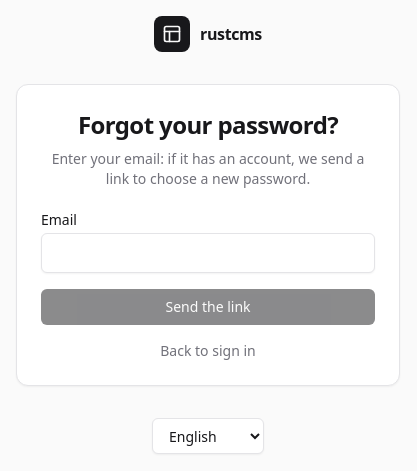
it: asks for a reset link and answers the same whoever asks
Type "ghost@example.test" into the field labelled "Email" at (208, 253), box [41, 233, 375, 273]
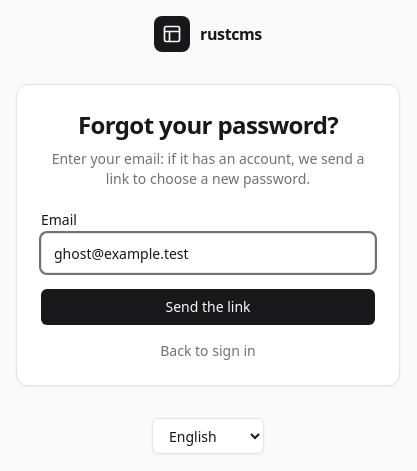
Click the button "Send the link" at (208, 307), box [41, 289, 375, 325]
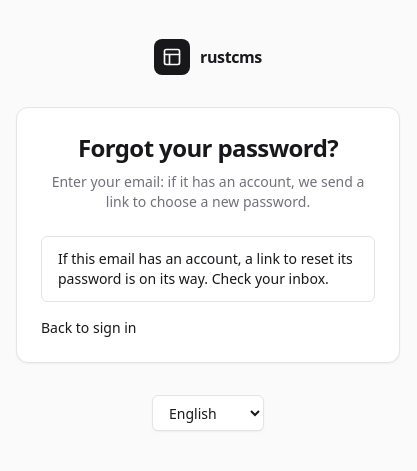
expect the text "If this email has an account" is shown: met, box [58, 249, 353, 288]
